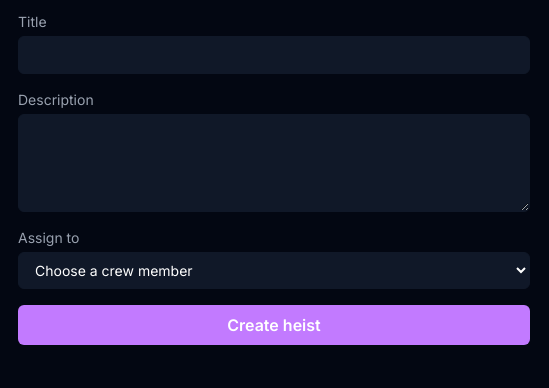
Test: HeistForm › blocks an empty title
The width and height of the screenshot is (549, 388).
Type "Replace it with a convincing fake" into the text box labelled "Description" at [274, 163], box [18,114,530,212]
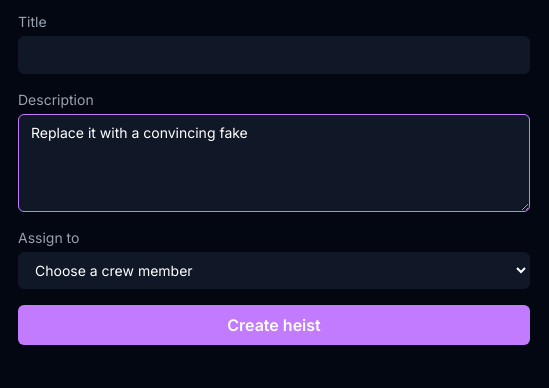
Select "BraveBrassFox" in the dropdown labelled "Assign to" at [274, 270], box [18,252,530,289]
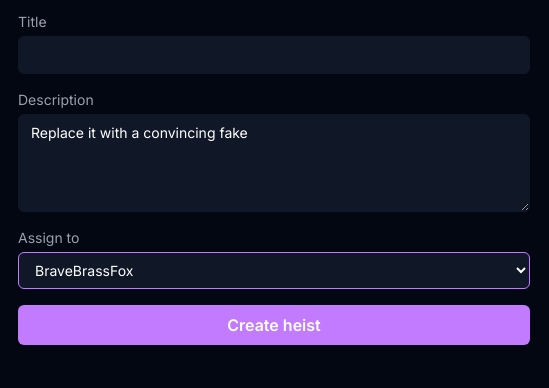
Click the button "Create heist" at [274, 325], box [18,305,530,345]
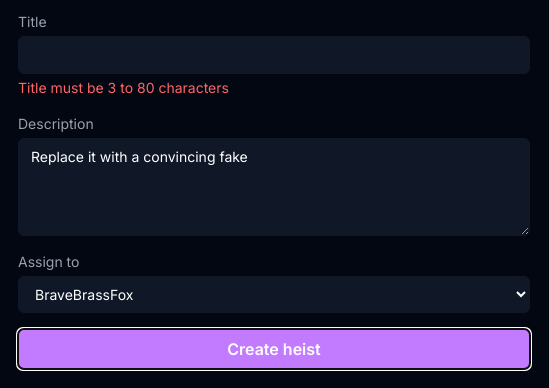
Now the message shows "Title", box [18,79,229,96]
